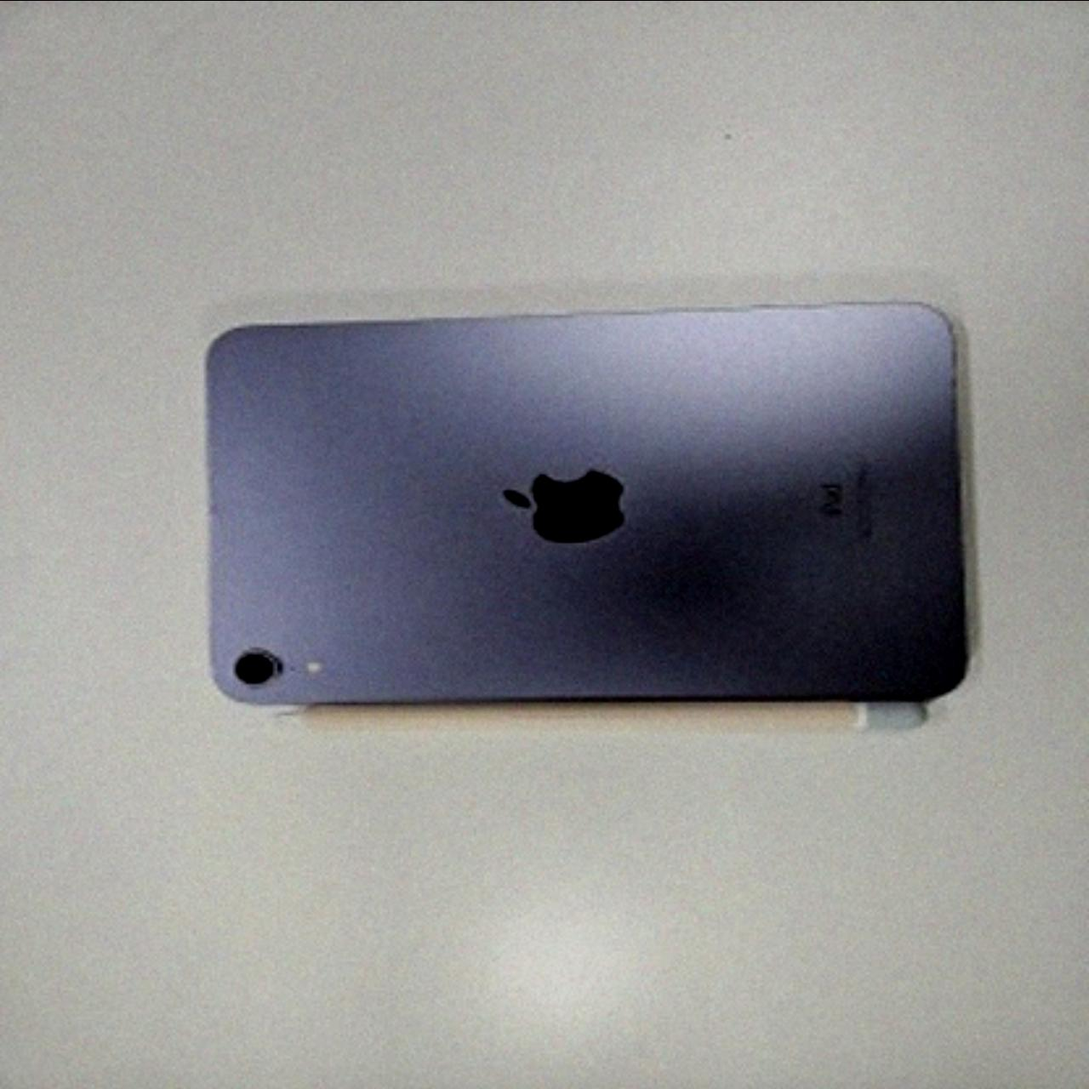Tablet_PC: (194, 275, 987, 738)
